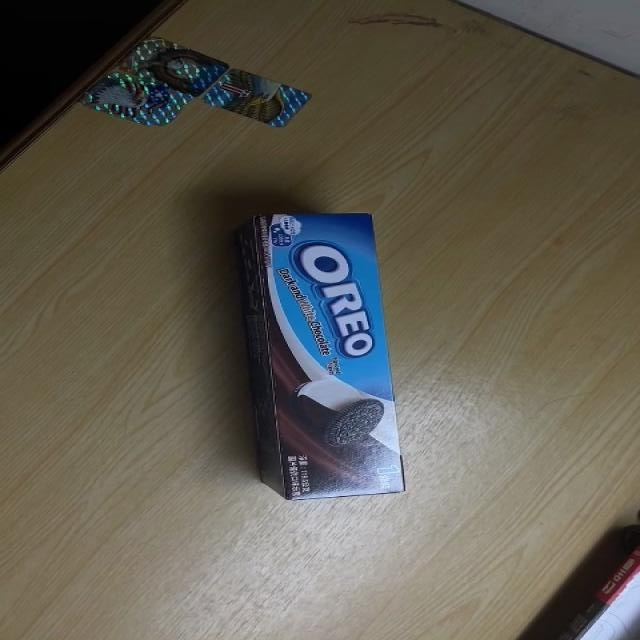Oreo: (240, 214, 407, 501)
